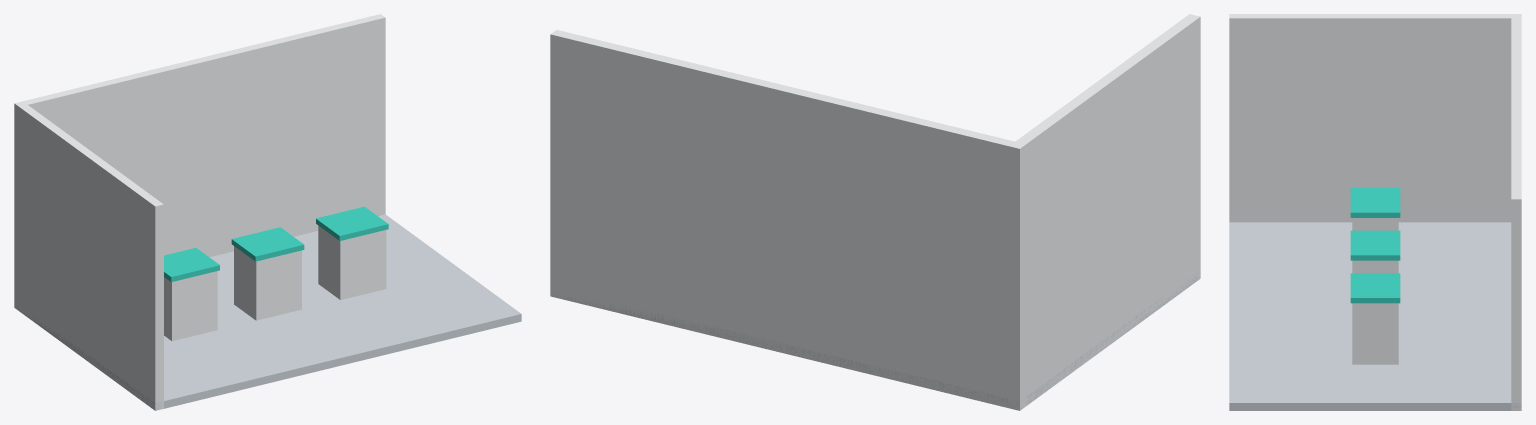
The picture shows the model from 3 angles, left to right: view 1: azimuth 30°, elevation 25°; view 2: azimuth 150°, elevation 25°; view 3: azimuth 270°, elevation 25°; orthographic projection. The views are drawn at different scales.
Parts seen in each view (by area): view 1: Exhibition Booth Concept; view 2: Exhibition Booth Concept; view 3: Exhibition Booth Concept.
Boxes of the visible parts, x1=… form: Exhibition Booth Concept: x1=14, y1=14, x2=521, y2=410; Exhibition Booth Concept: x1=550, y1=14, x2=1200, y2=410; Exhibition Booth Concept: x1=1229, y1=14, x2=1521, y2=410.
Bounding box in the file's own units: 6 × 3.2 × 4.
